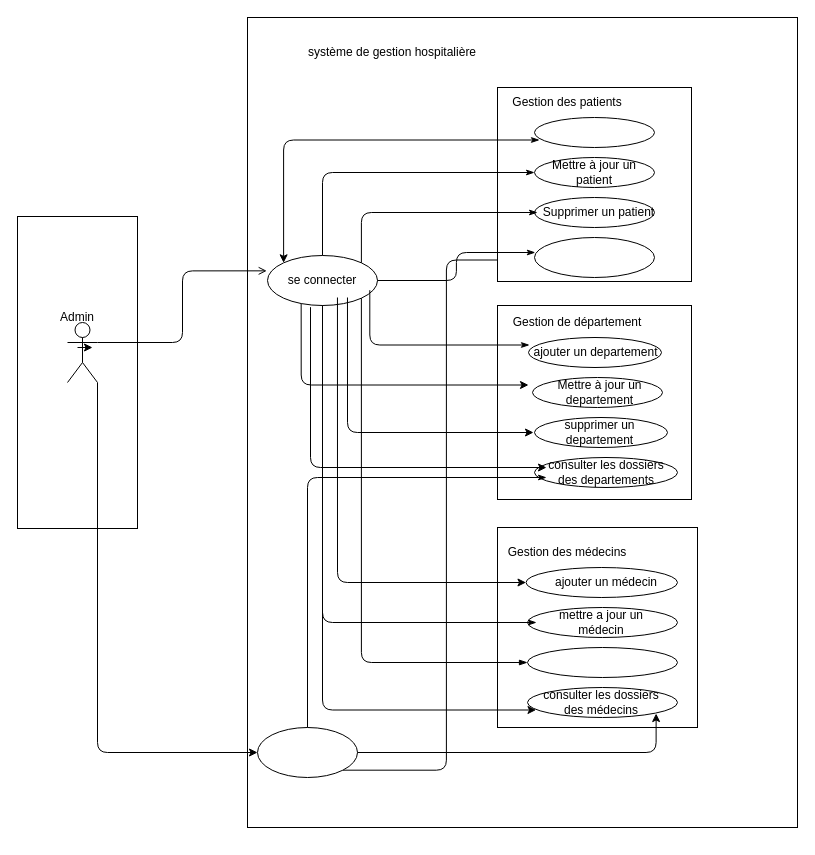
Image size: 815x855. Some labels were removed from this diagram. Here are the shapes that lost their labels. From the top down, the centre of each, then its label:
the point at 594,132: Ajouter un patient
the point at 594,257: Consulter les dossiers des patients
the point at 82,352: Actor
the point at 602,662: supprimer un médecin
the point at 307,752: déconnexion
